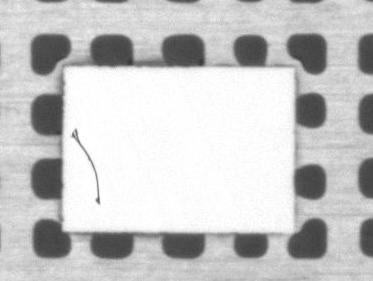DIE_INK: (70, 126, 101, 202)
